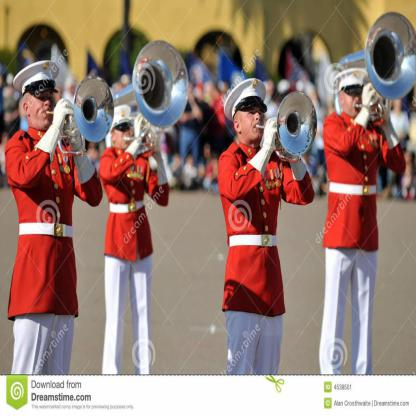face: (29, 85, 55, 126), (240, 100, 265, 137), (343, 83, 363, 116), (115, 120, 133, 148)
